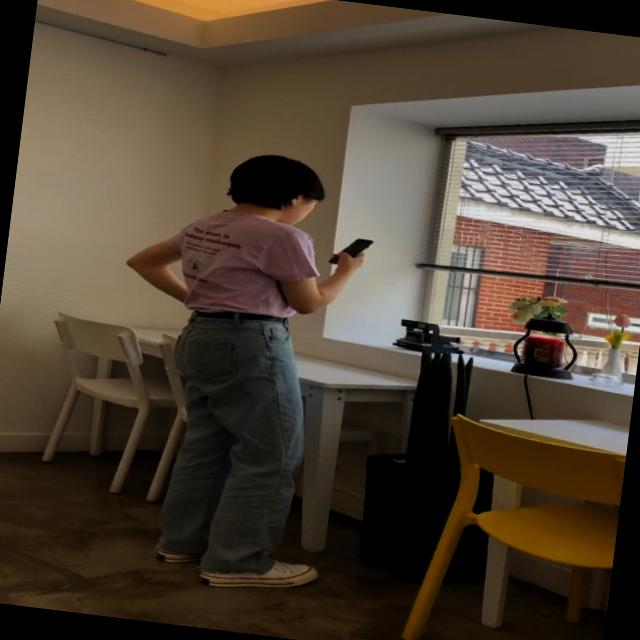denimpants: (153, 303, 323, 580)
shortsleeve: (174, 200, 330, 328)
